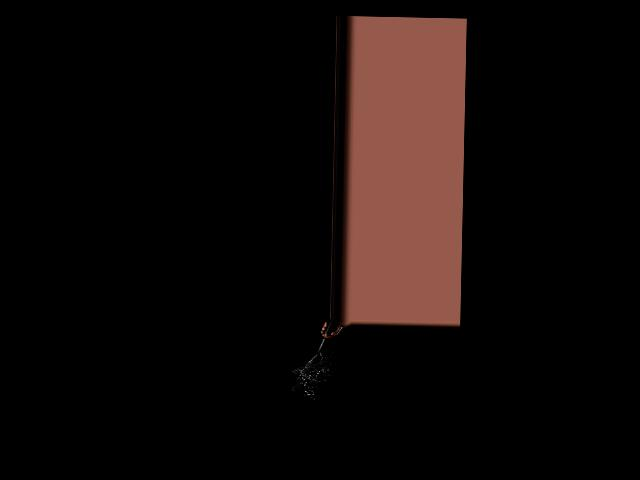beer: (317, 318, 341, 353)
